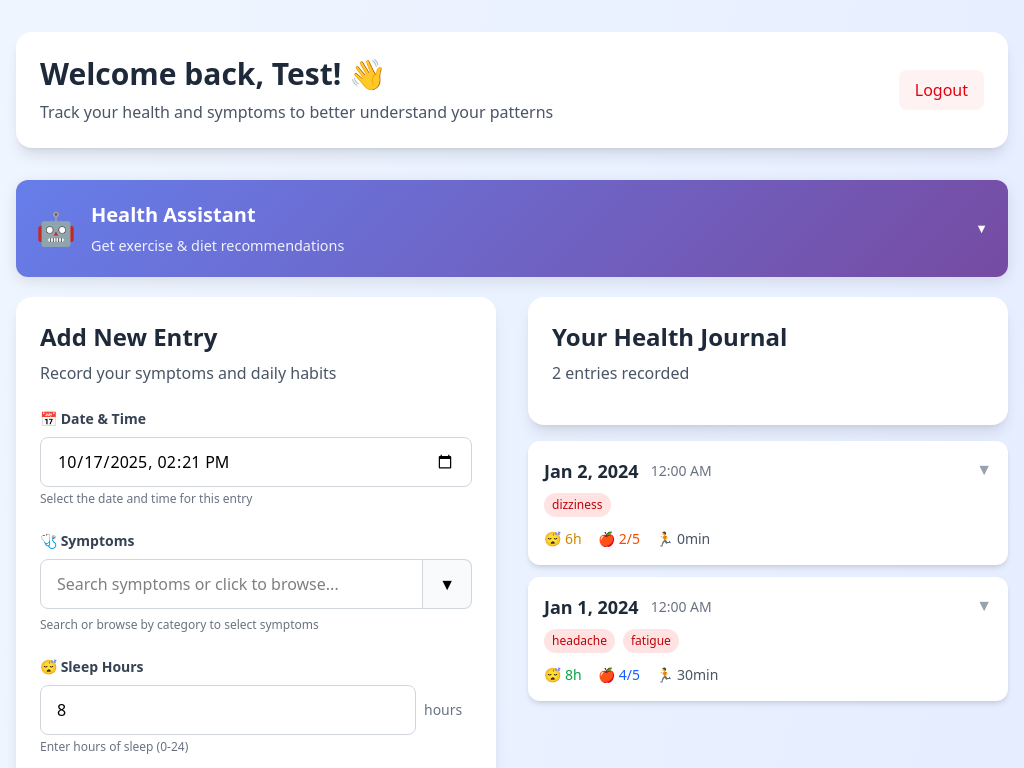
Test case: Dashboard › should clear entries when user logs out
expect the text "headache" is shown: met, box [544,629,615,653]
Click the button "Logout": (941, 90) [899,70,984,110]
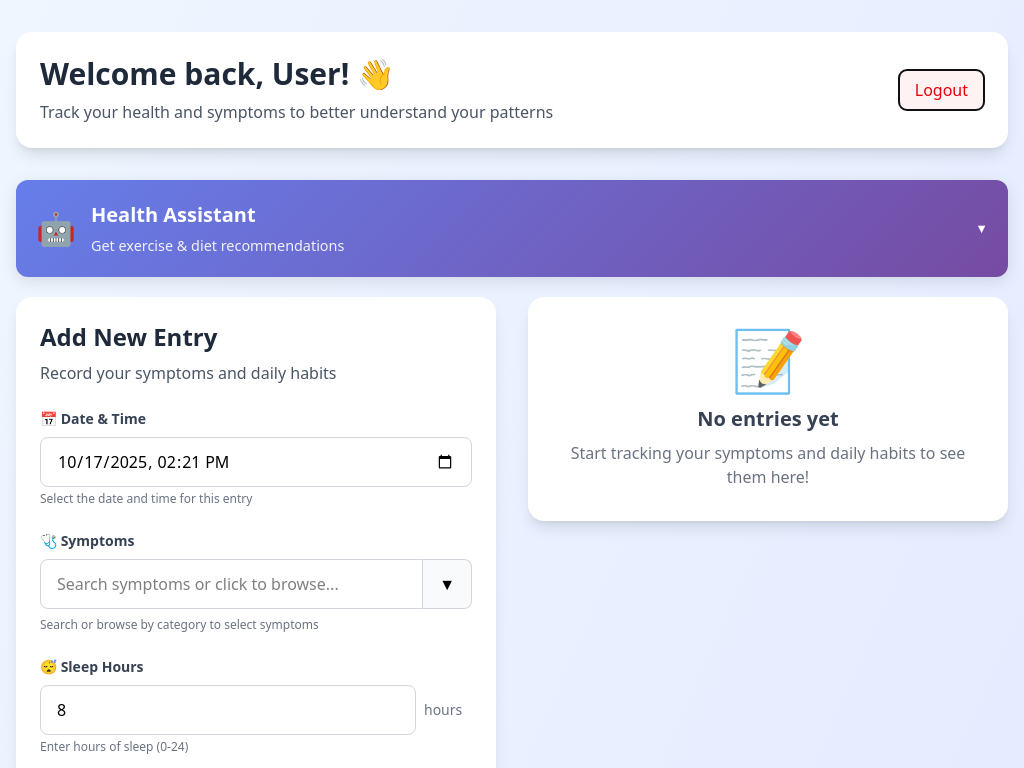
expect the text "headache" is gone: met
